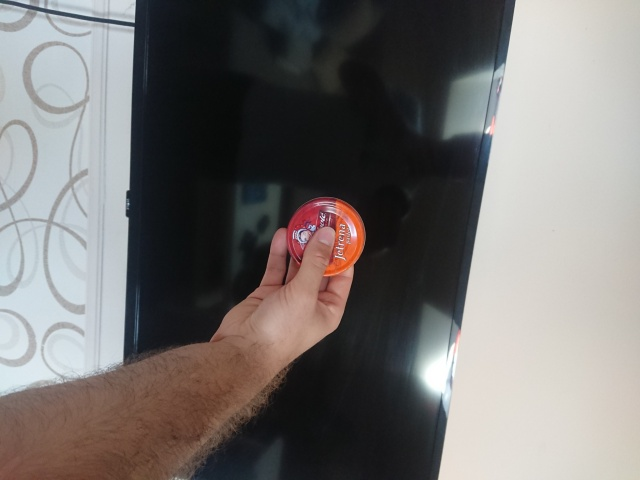Gavrilovic Pork Liver Pate 100g: (283, 193, 368, 278)
